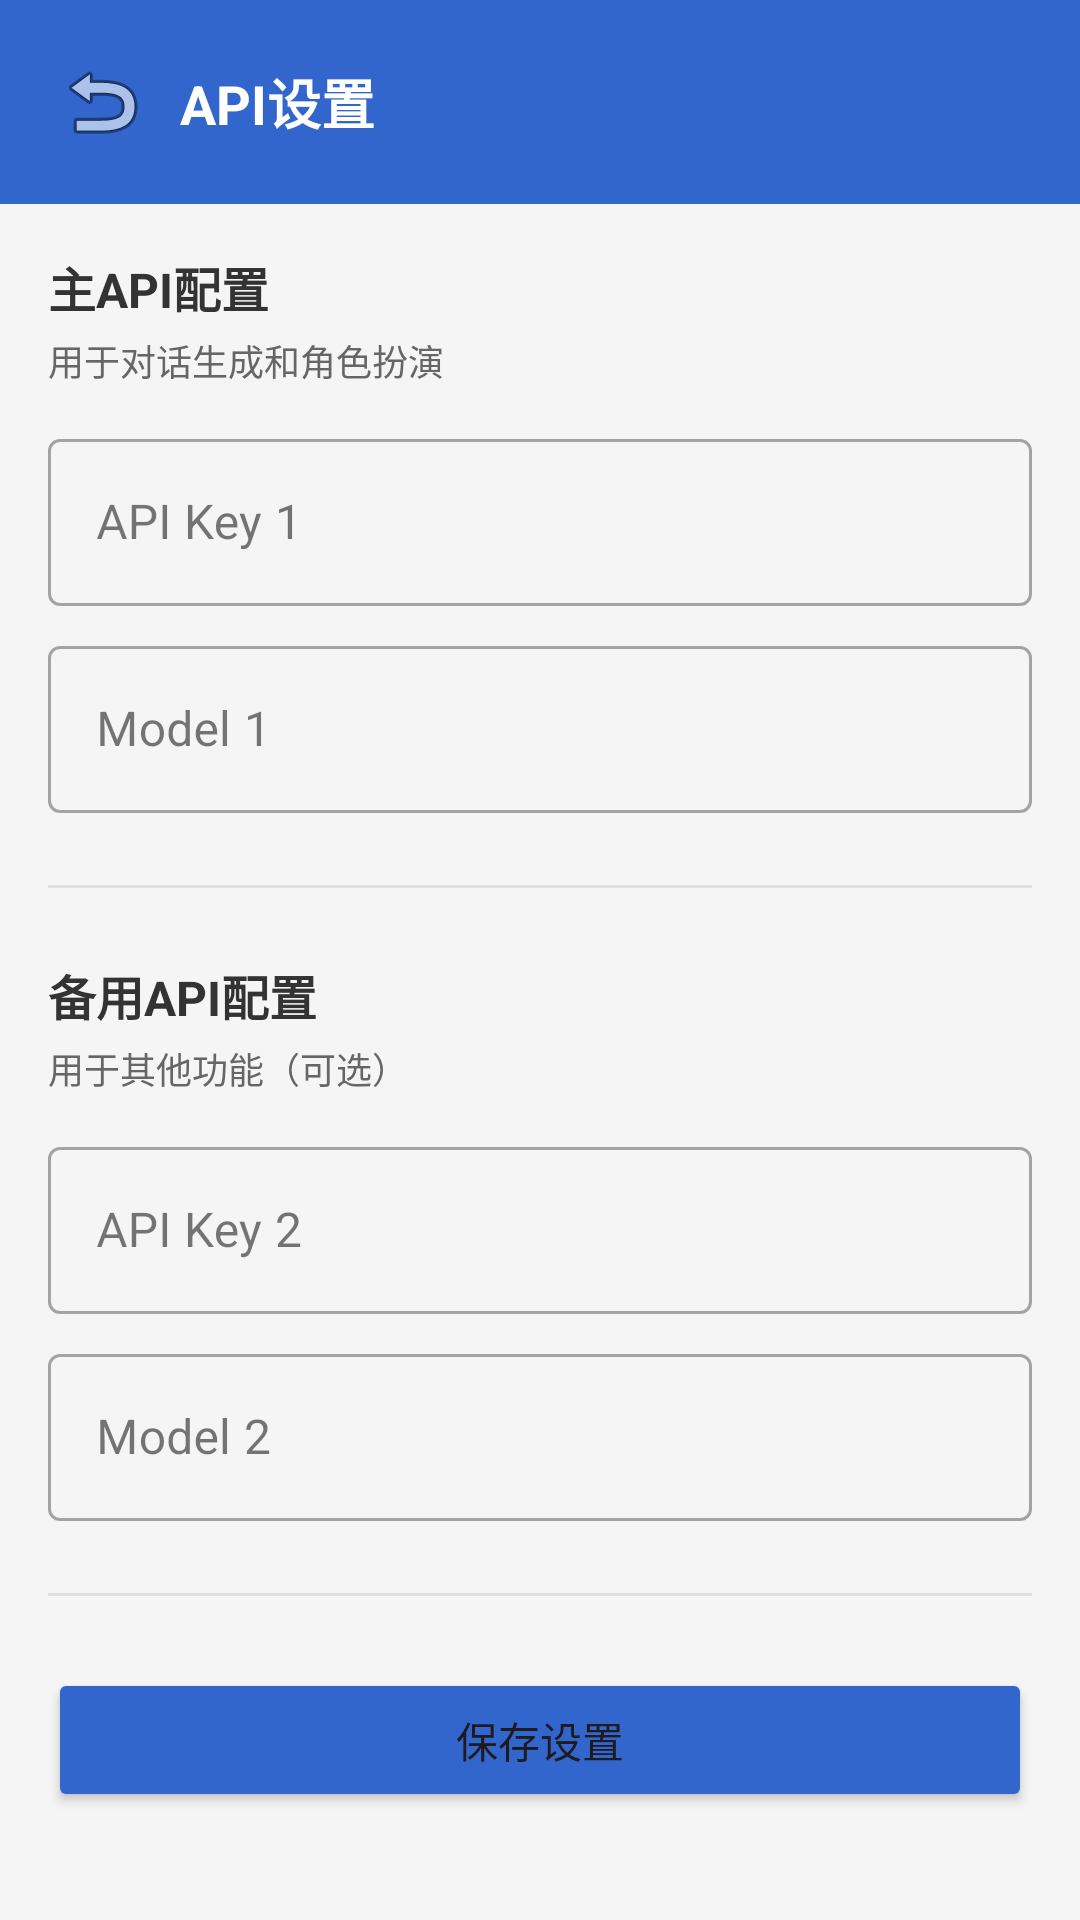

Where to tap for icons on this 1080 x 1920 app screen, as [x,y]:
返回: [103,102]
